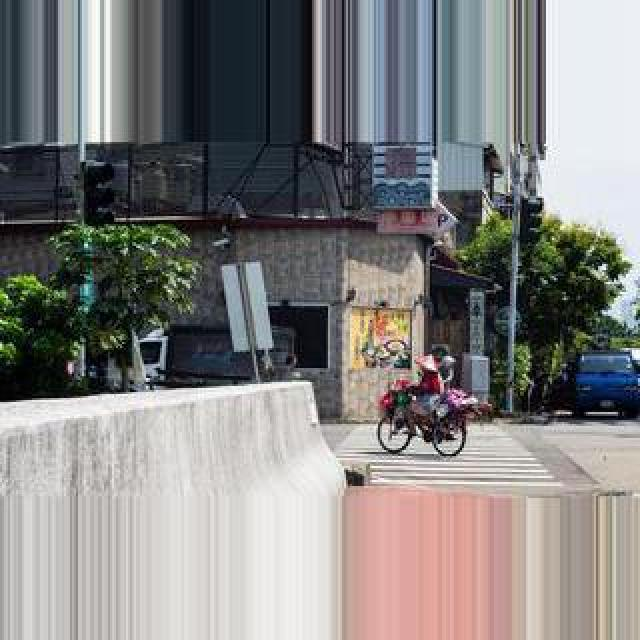Bus-Bike: (572, 350, 640, 420)
Person: (374, 381, 470, 457)
